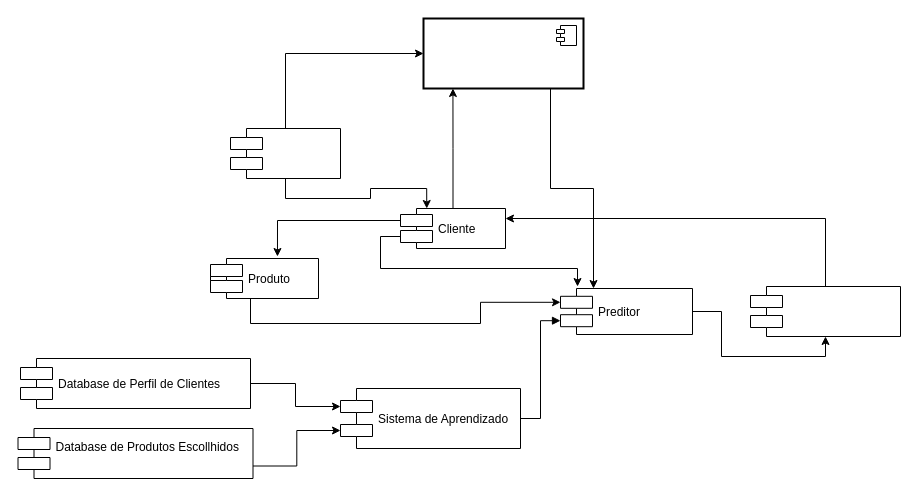
This 918x496 diagram has some shape labels left out. The shapes that lost their labels are listed below. From the top down, each one's box as (x1, y1, x2, y2) in pixels, then its label:
(422, 17, 584, 89): «External» Facebook
(230, 128, 340, 178): Segurança
(750, 286, 900, 336): Recomendação
